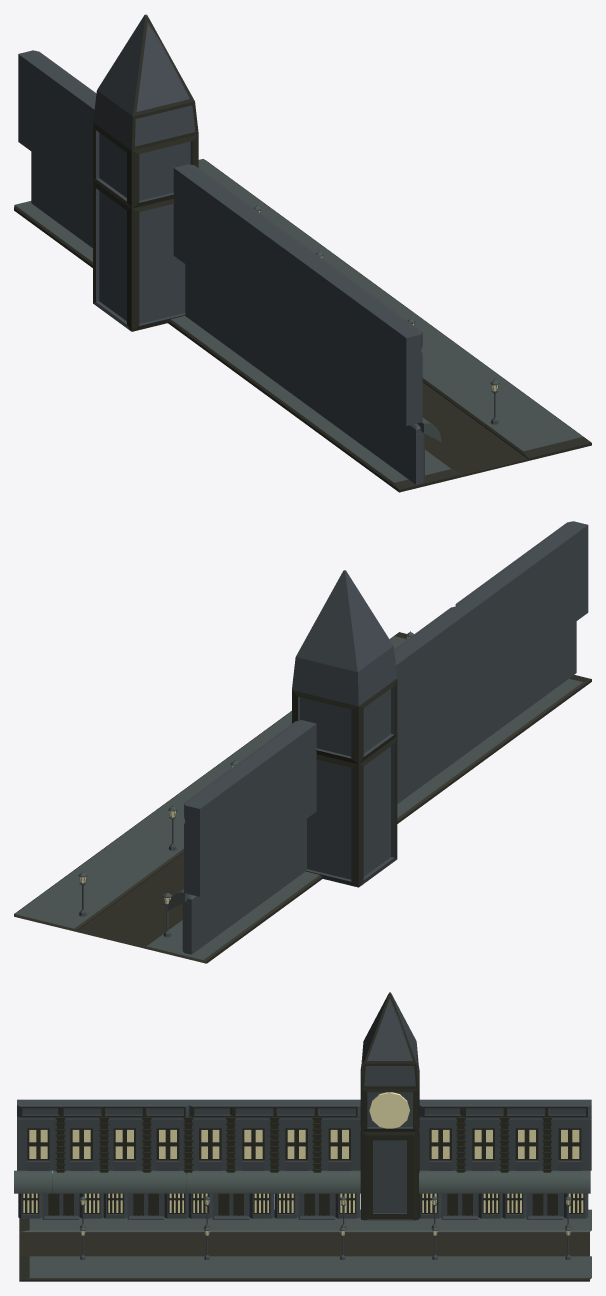
The model's file is ZefirConceptParaUnity.fbx.
The picture shows the model from 3 angles, top to bottom: view 1: azimuth 30°, elevation 25°; view 2: azimuth 150°, elevation 25°; view 3: azimuth 270°, elevation 25°; orthographic projection. The views are drawn at different scales.
Visible parts, largest first — view 1: Cube.044; view 2: Cube.044; view 3: Cube.044.
Part boxes in pixels (x1=…): Cube.044: x1=14, y1=14, x2=591, y2=492; Cube.044: x1=14, y1=521, x2=591, y2=963; Cube.044: x1=14, y1=992, x2=591, y2=1281.
Size of the model in its own units: 11775 by 14422 by 34592.
